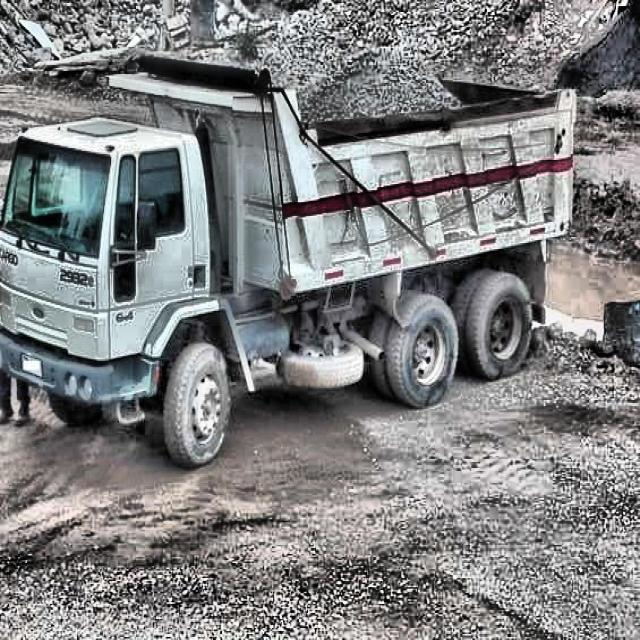dump_truck: (3, 34, 579, 470)
